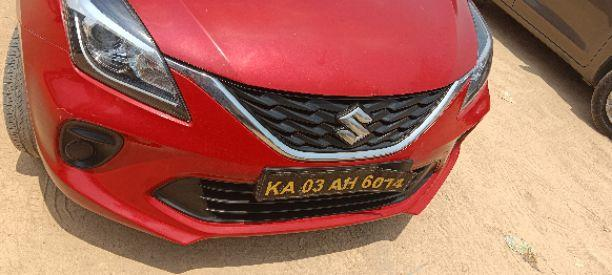license_plate: (7, 0, 494, 245), (252, 160, 416, 203)
